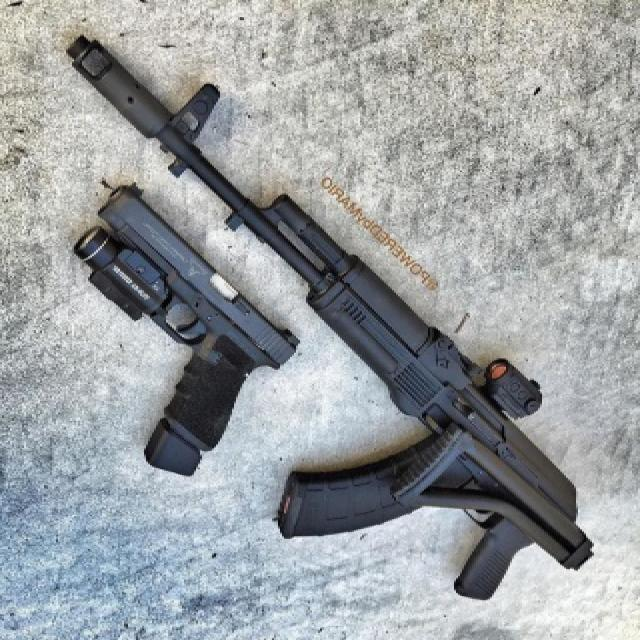rifle: (45, 25, 595, 604)
